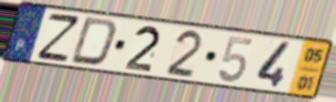2: (163, 28, 207, 80), (124, 24, 161, 73)
4: (253, 39, 294, 91)
5: (216, 34, 256, 84)
D: (67, 15, 120, 68)
Z: (35, 12, 83, 63)
